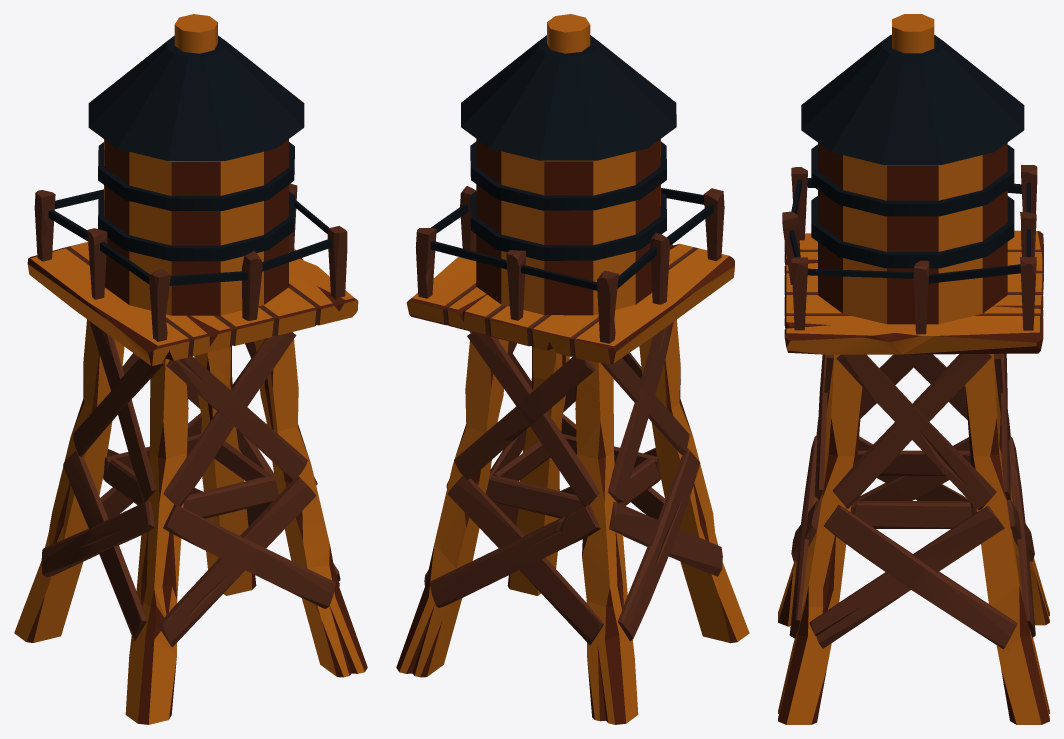
Rendered from WaterTower.fbx.
3 views of the same model, side by side, from view 1: azimuth 30°, elevation 25°; view 2: azimuth 150°, elevation 25°; view 3: azimuth 270°, elevation 25° (orthographic). The views are drawn at different scales.
Visible parts, largest first — view 1: WaterTower; view 2: WaterTower; view 3: WaterTower.
Part boxes in pixels (x1,y1,x2,y2): WaterTower: [14, 14, 367, 724]; WaterTower: [396, 14, 749, 724]; WaterTower: [778, 14, 1049, 724].
Size of the model in its own units: 129 by 335 by 128.
